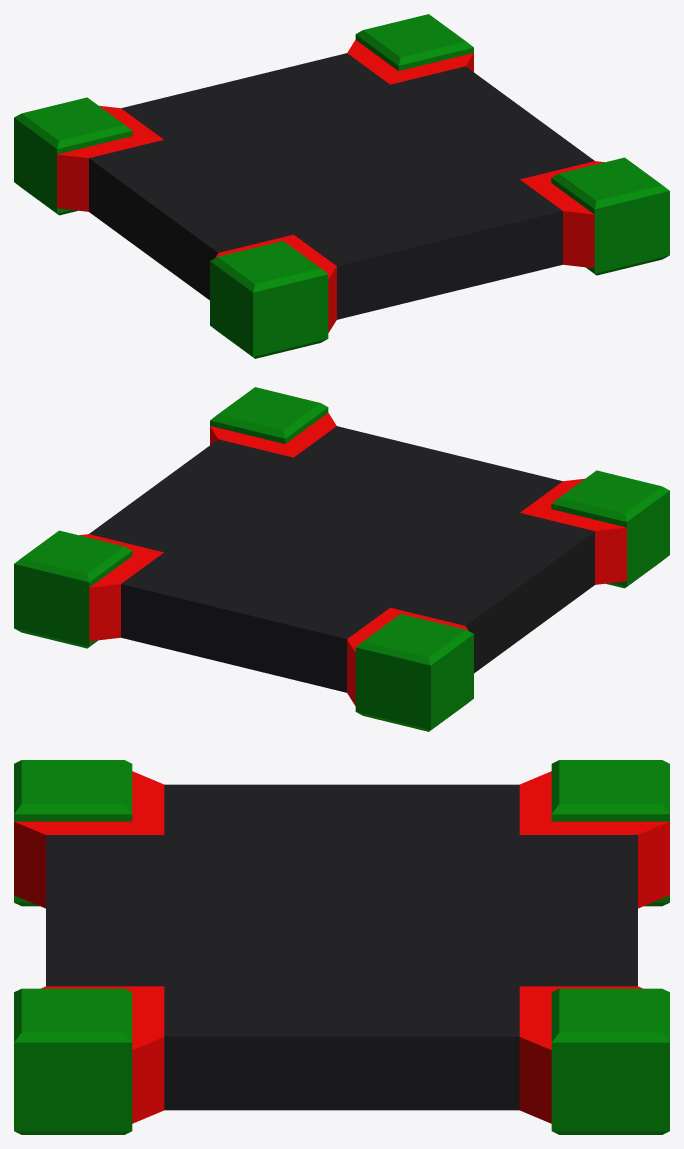
The model's file is movingplatform.FBX.
The picture shows the model from 3 angles, top to bottom: view 1: azimuth 30°, elevation 25°; view 2: azimuth 150°, elevation 25°; view 3: azimuth 270°, elevation 25°; orthographic projection. The views are drawn at different scales.
Visible parts, largest first — view 1: Box002; view 2: Box002; view 3: Box002.
Part boxes in pixels (bbox=[...]): Box002: bbox=[14, 14, 669, 358]; Box002: bbox=[14, 387, 669, 731]; Box002: bbox=[14, 760, 669, 1134].
Size of the model in its own units: 156 by 26.72 by 155.
